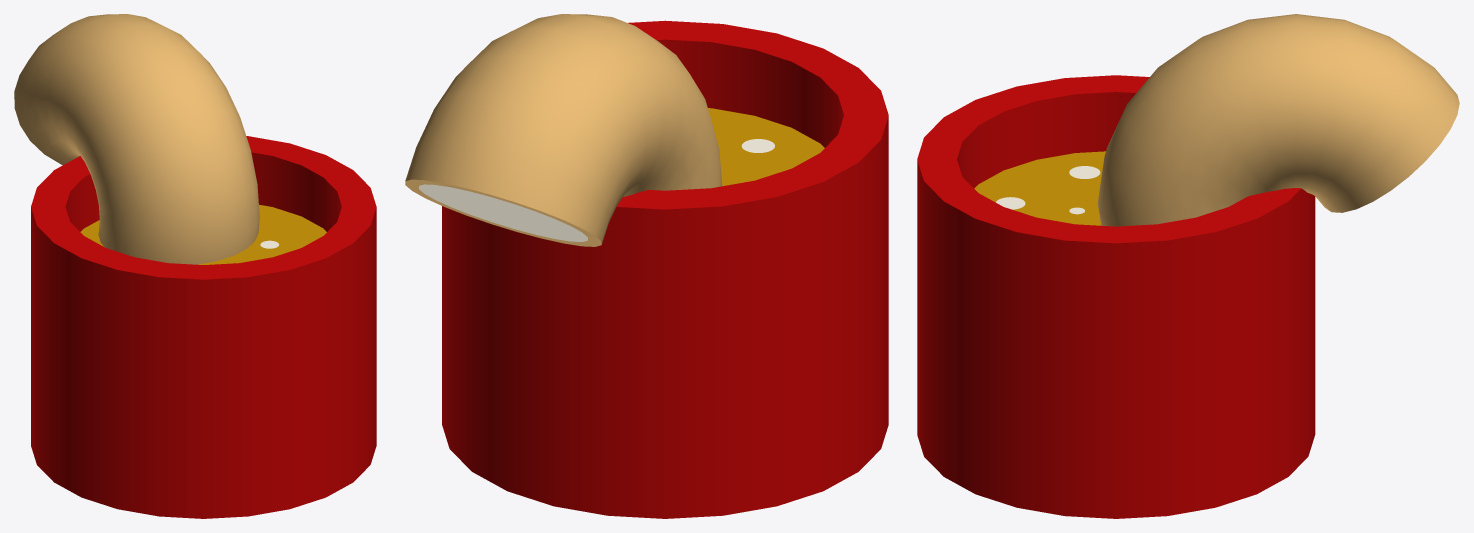
3 views of the same model, side by side, from view 1: azimuth 30°, elevation 25°; view 2: azimuth 150°, elevation 25°; view 3: azimuth 270°, elevation 25° (orthographic). The views are drawn at different scales.
Visible parts, largest first — view 1: mesh2_mesh2-geometry, mesh1_mesh1-geometry, mesh2_mesh2-geometry_2; view 2: mesh2_mesh2-geometry, mesh1_mesh1-geometry, mesh2_mesh2-geometry_2, mesh1_mesh1-geometry_3; view 3: mesh2_mesh2-geometry, mesh1_mesh1-geometry, mesh2_mesh2-geometry_2, mesh2_mesh2-geometry_3.
Part boxes in pixels (bbox=[...]): mesh2_mesh2-geometry: bbox=[31, 136, 376, 518]; mesh1_mesh1-geometry: bbox=[14, 14, 259, 264]; mesh2_mesh2-geometry_2: bbox=[80, 204, 326, 264]; mesh2_mesh2-geometry: bbox=[442, 20, 888, 518]; mesh1_mesh1-geometry: bbox=[405, 14, 722, 246]; mesh2_mesh2-geometry_2: bbox=[708, 108, 824, 186]; mesh1_mesh1-geometry_3: bbox=[419, 184, 587, 241]; mesh2_mesh2-geometry: bbox=[917, 75, 1315, 518]; mesh1_mesh1-geometry: bbox=[1097, 14, 1459, 226]; mesh2_mesh2-geometry_2: bbox=[974, 151, 1105, 225]; mesh2_mesh2-geometry_3: bbox=[996, 166, 1100, 214].
Bounding box in the file's own units: 0.489 × 0.5626 × 0.6666.
